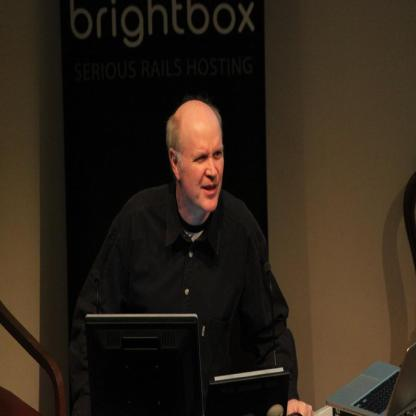board: (326, 342, 416, 416)
